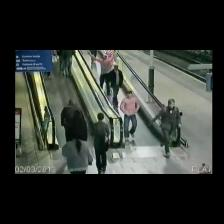person: (150, 99, 181, 157), (88, 52, 113, 95), (61, 100, 87, 141), (62, 139, 93, 173), (121, 91, 139, 141), (94, 113, 109, 173), (109, 64, 123, 109), (62, 50, 75, 77), (106, 50, 117, 67), (57, 50, 64, 73), (91, 59, 94, 64)
